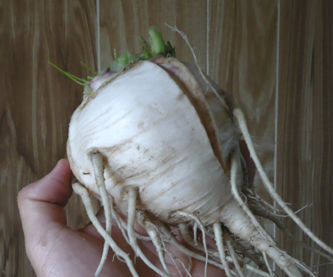turnip: (44, 24, 332, 275)
